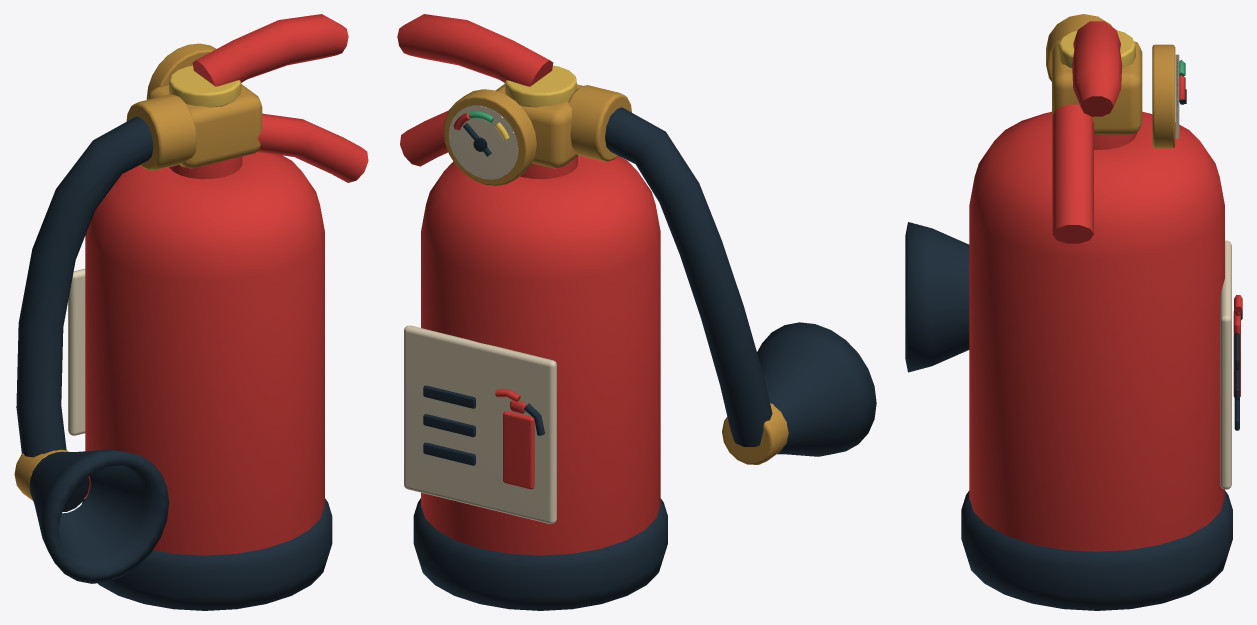
File: extinguisher.glb
3 views of the same model, side by side, from view 1: azimuth 30°, elevation 25°; view 2: azimuth 150°, elevation 25°; view 3: azimuth 270°, elevation 25° (orthographic). The views are drawn at different scales.
Parts seen in each view (by area): view 1: Extinguisher_Geometry; view 2: Extinguisher_Geometry; view 3: Extinguisher_Geometry.
Part boxes in pixels (left/top/right/bottom): Extinguisher_Geometry: left=14, top=14, right=368, bottom=610; Extinguisher_Geometry: left=397, top=14, right=876, bottom=610; Extinguisher_Geometry: left=905, top=14, right=1242, bottom=610.
Bounding box in the file's own units: 0.9143 × 1.15 × 0.633.
